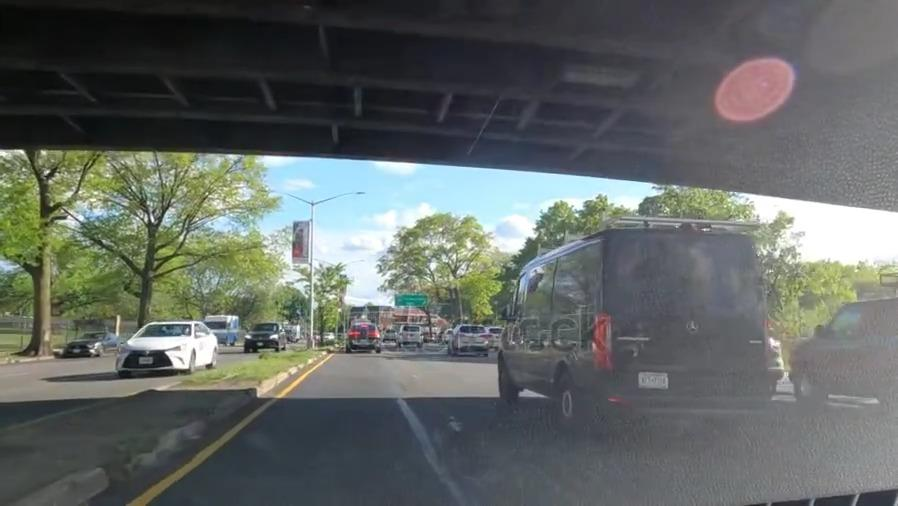car: (797, 295, 898, 408), (109, 326, 227, 371), (444, 323, 488, 355), (63, 330, 113, 355), (339, 321, 379, 352), (243, 322, 280, 351), (392, 323, 423, 347)
van: (504, 215, 777, 447)
wheel: (550, 370, 585, 436)
